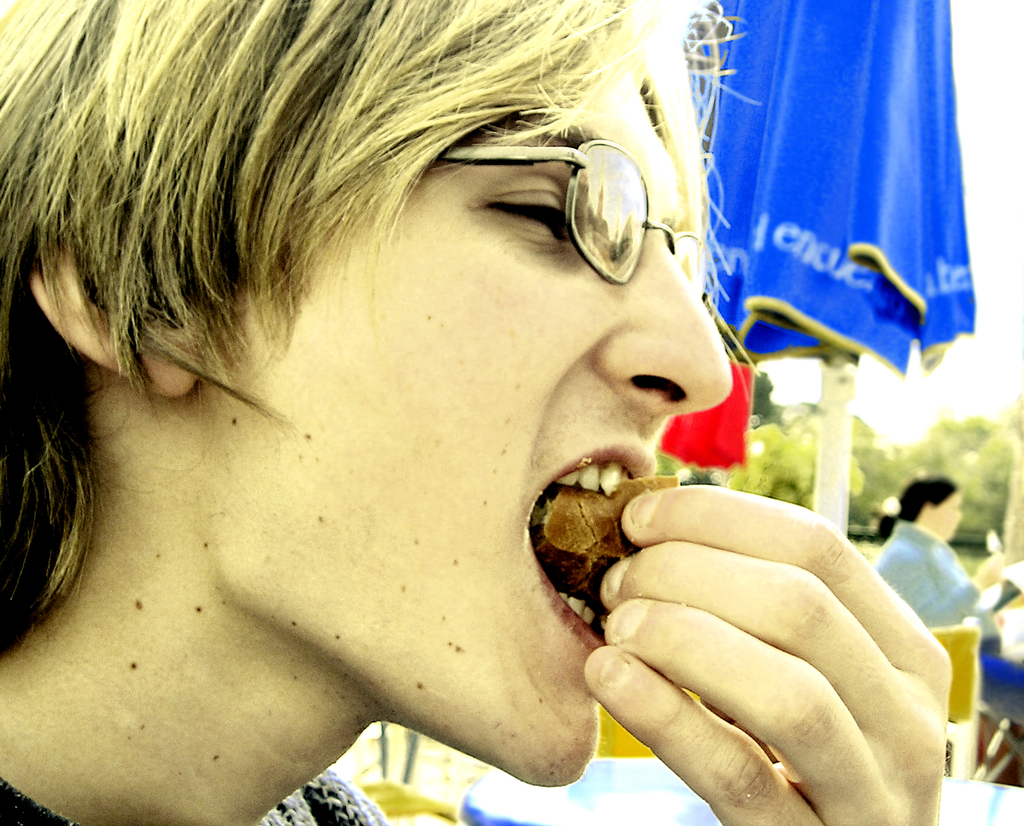Person: (0, 0, 952, 825), (874, 476, 981, 628)
